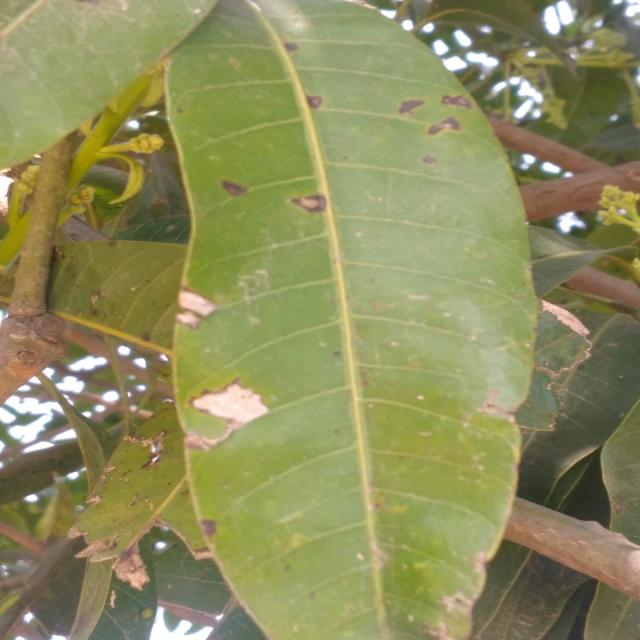Anthracnose: (286, 189, 340, 213), (428, 110, 465, 141), (300, 88, 330, 113), (395, 94, 425, 118), (221, 174, 251, 196), (441, 94, 474, 109), (281, 35, 297, 55), (419, 155, 438, 165)
Bacterial Cancer: (196, 384, 275, 427), (538, 293, 596, 341), (176, 293, 214, 329)
